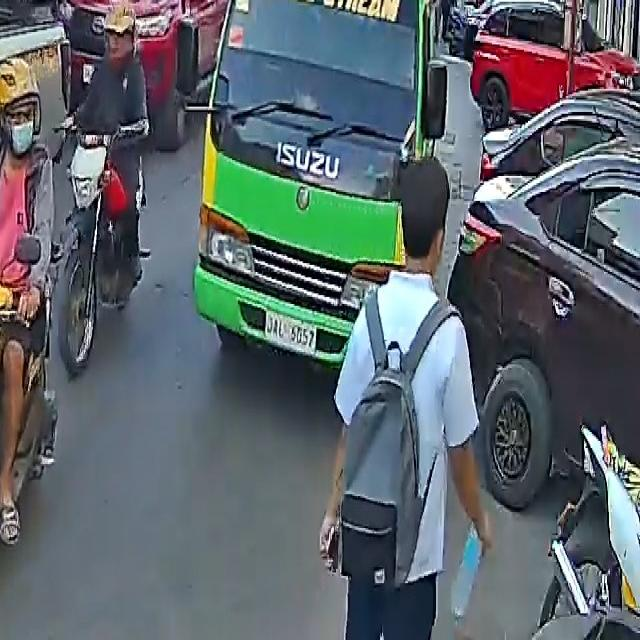car: (450, 106, 640, 628), (0, 0, 86, 464), (56, 0, 229, 153), (469, 0, 639, 128)
